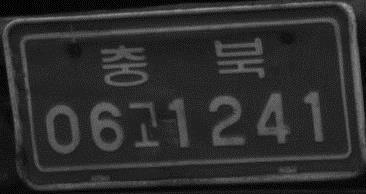0: (44, 101, 79, 156)
1: (167, 93, 191, 150), (302, 89, 326, 143)
2: (207, 92, 248, 149)
4: (254, 90, 291, 147)
6: (88, 99, 125, 154)
고: (126, 100, 161, 149)
충북_D: (98, 33, 267, 89)
